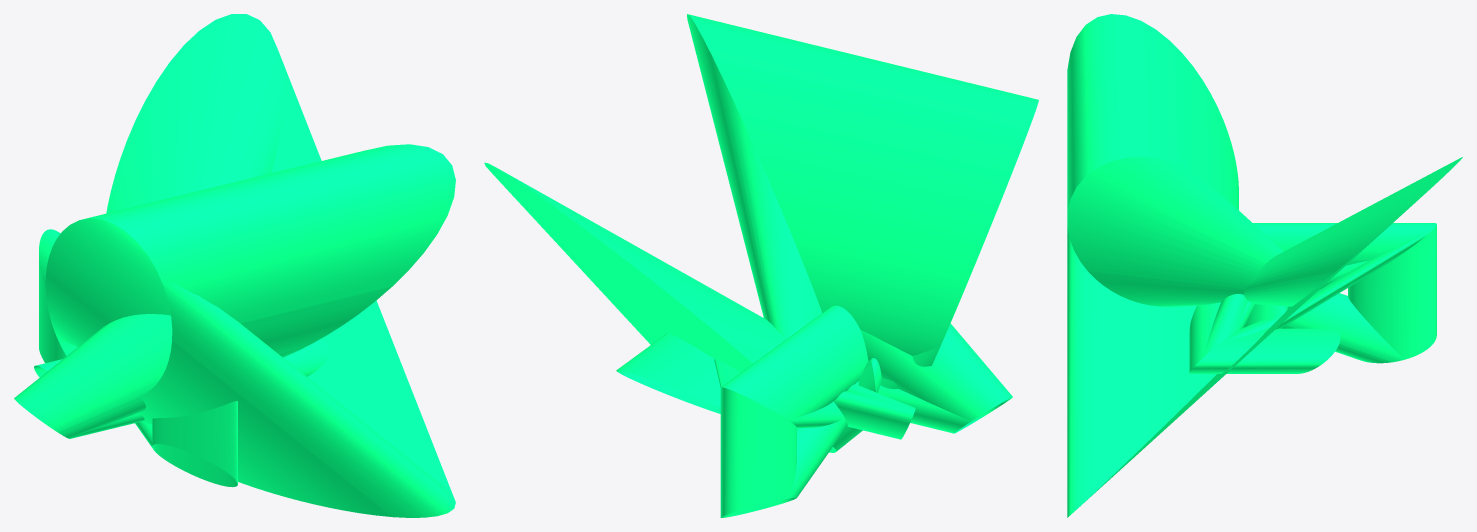
Rendered from onetwenty_cell_ar_universal.glb.
3 renders of one model, left to right at view 1: azimuth 30°, elevation 25°; view 2: azimuth 150°, elevation 25°; view 3: azimuth 270°, elevation 25°, orthographic. The views are drawn at different scales.
Visible parts, largest first — view 1: onetwenty_cell_ar; view 2: onetwenty_cell_ar; view 3: onetwenty_cell_ar.
Part boxes in pixels (x1,y1,x2,y2): onetwenty_cell_ar: (14,14,455,517); onetwenty_cell_ar: (484,14,1038,517); onetwenty_cell_ar: (1067,14,1462,517).
Size of the model in its own units: 1 by 0.9441 by 0.964.
